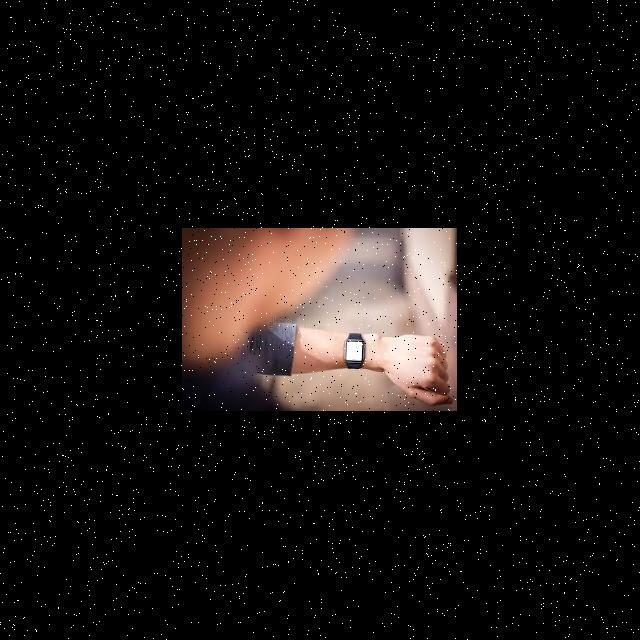watch: (325, 323, 407, 415)
